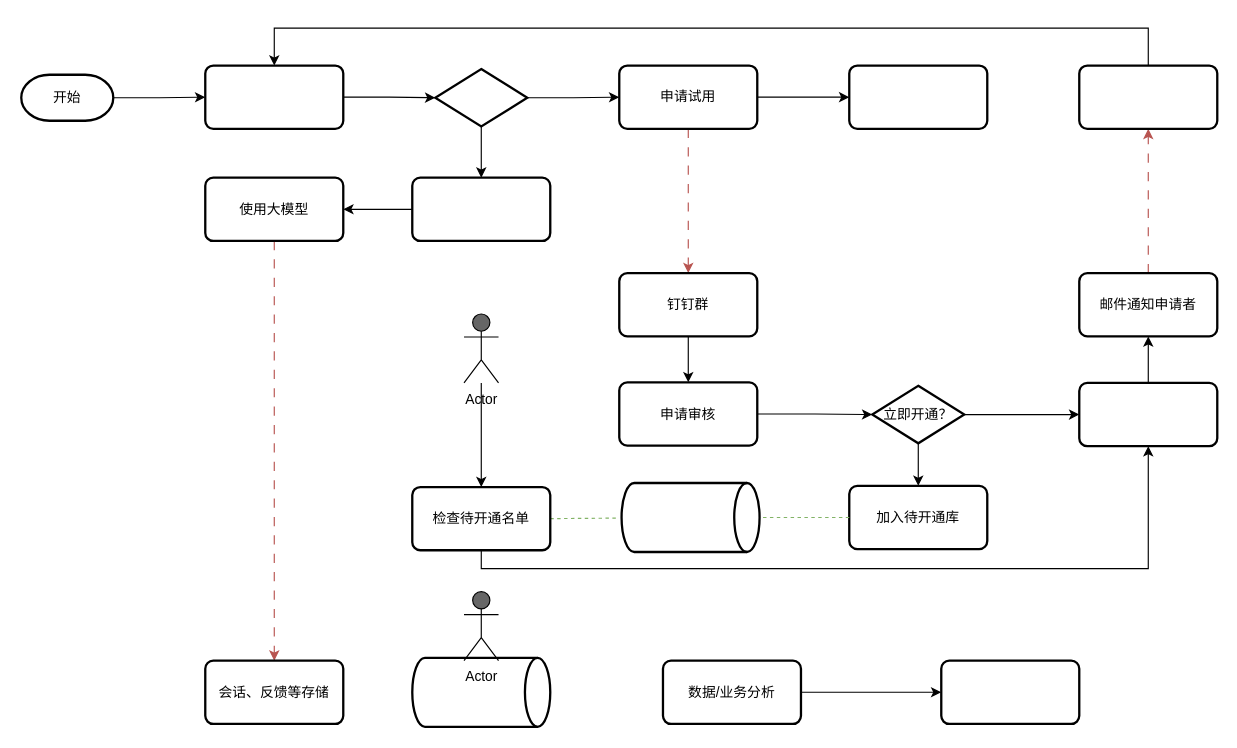
The diagram is 1237 pixels wide and 748 high, and some of its shapes have lost their labels. The shapes that lost their labels are listed below. From the top down, each one's centre as x and y in pixels, then its label:
pixel 274 96: 访问大模型网站
pixel 481 97: 是否有账号？
pixel 918 96: 等待账号开通
pixel 1148 96: 收到邮件
pixel 481 208: 登录
pixel 1148 414: 开通账号
pixel 1010 691: 调优模型
